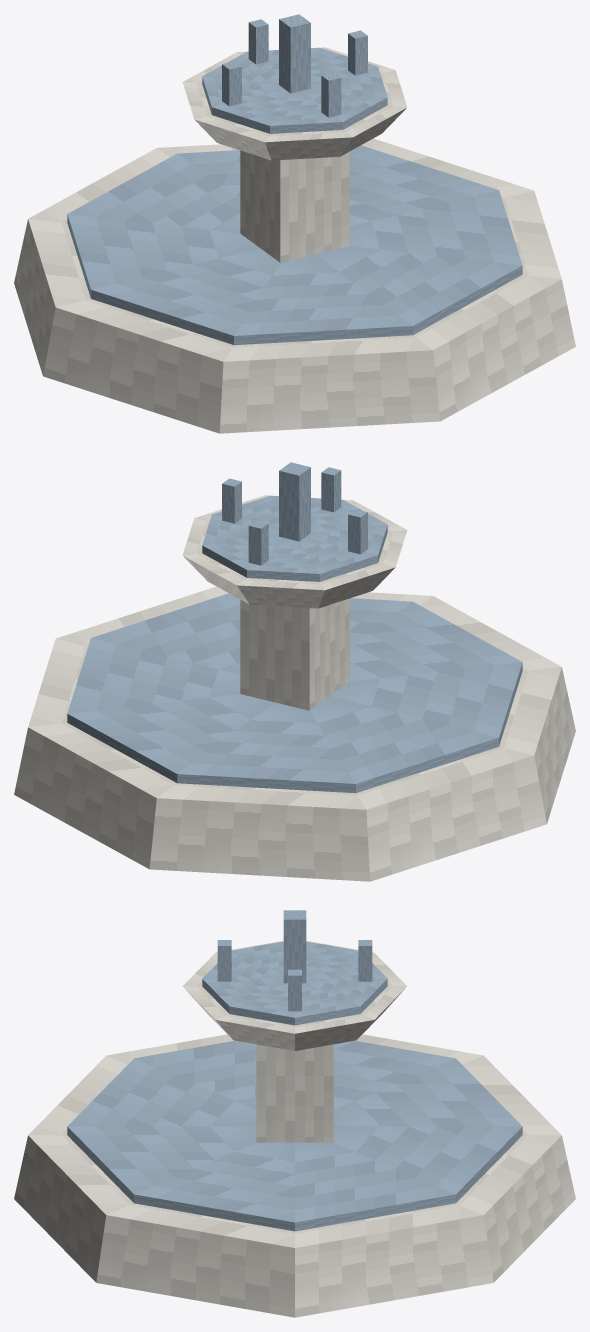
The model's file is pixel-modern-city-street-fountain-22c83a15__29054.glb.
3 renders of one model, top to bottom at view 1: azimuth 30°, elevation 25°; view 2: azimuth 150°, elevation 25°; view 3: azimuth 270°, elevation 25°, orthographic. The views are drawn at different scales.
Visible parts, largest first — view 1: fountain; view 2: fountain; view 3: fountain.
Boxes of the visible parts, box(x1,y1,x2,y2) form: fountain: box(14, 14, 575, 433); fountain: box(14, 462, 575, 881); fountain: box(14, 910, 575, 1317).
Size of the model in its own units: 4 by 2.23 by 4.
Materials: 2 (2 with a texture image).
